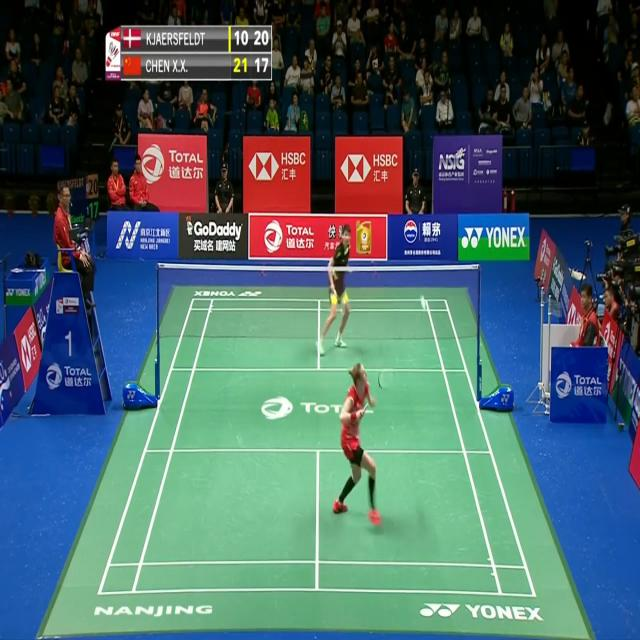Player1: (328, 359, 386, 534)
Player2: (316, 221, 352, 359)
